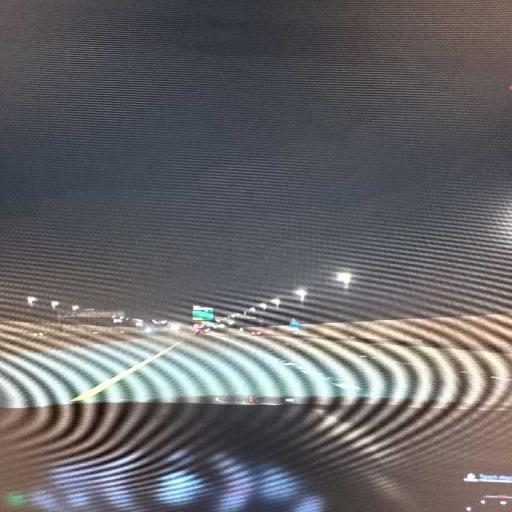car: (194, 326, 211, 334)
lane: (0, 334, 511, 406)
